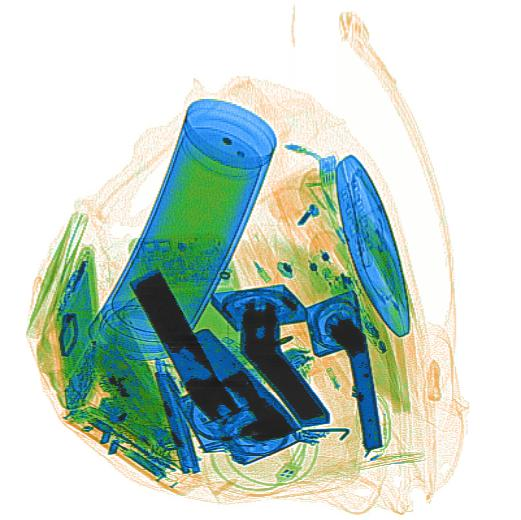knife: (153, 355, 201, 477)
